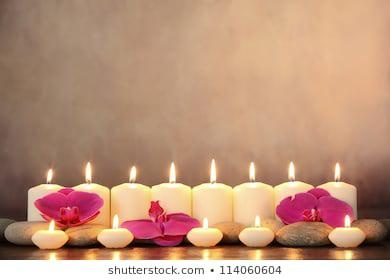fire: (81, 159, 94, 183), (208, 155, 218, 183), (285, 157, 297, 180), (332, 160, 344, 181), (168, 159, 178, 183), (247, 159, 257, 181), (128, 162, 139, 182), (341, 211, 353, 229), (43, 166, 55, 183), (110, 211, 121, 229), (44, 219, 56, 234), (252, 211, 261, 227), (200, 215, 208, 230)
